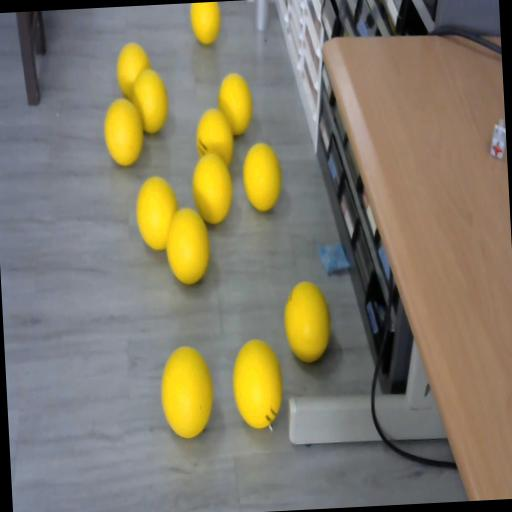FUEL: (158, 344, 216, 439), (229, 336, 285, 430), (283, 278, 332, 364), (163, 204, 212, 287), (190, 150, 235, 224), (242, 140, 284, 212), (103, 97, 145, 166), (130, 68, 170, 136), (217, 72, 254, 136), (190, 2, 222, 46)
